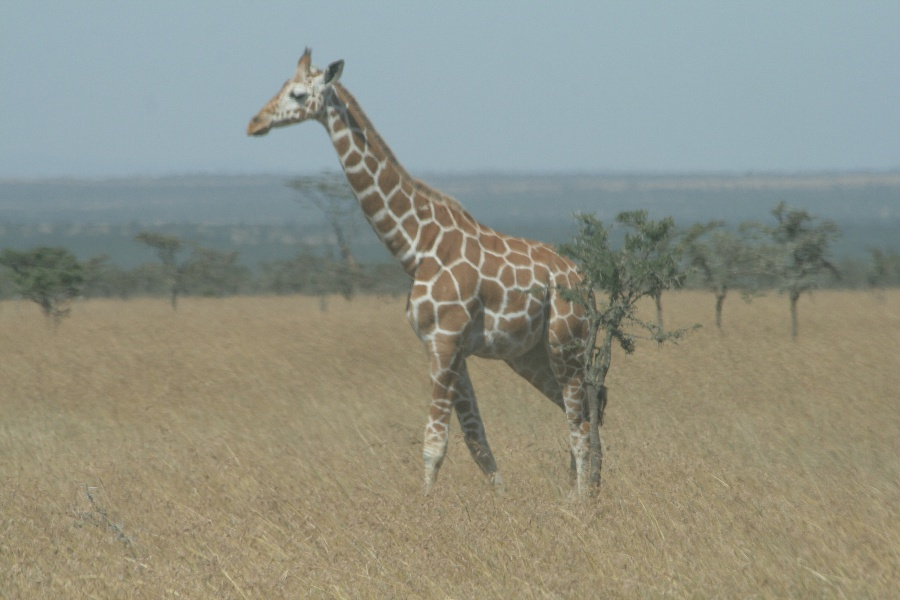giraffe: (231, 36, 632, 498)
